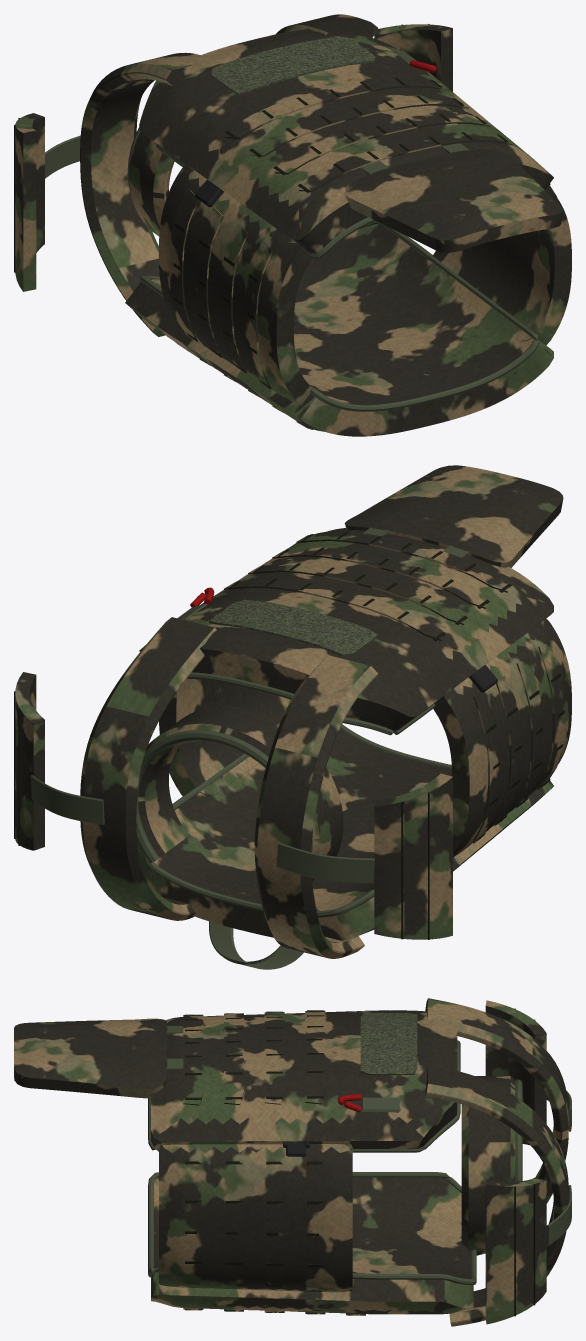
The model's file is colete_militar.glb.
3 renders of one model, top to bottom at view 1: azimuth 30°, elevation 25°; view 2: azimuth 150°, elevation 25°; view 3: azimuth 270°, elevation 25°, orthographic. The views are drawn at different scales.
Visible parts, largest first — view 1: colete_militar_camo_mata, colete_militar_nylon_verde, colete_militar_velcro_verde, colete_militar_costura_escura; view 2: colete_militar_camo_mata, colete_militar_nylon_verde, colete_militar_velcro_verde, colete_militar_costura_escura; view 3: colete_militar_camo_mata, colete_militar_nylon_verde, colete_militar_velcro_verde, colete_militar_costura_escura.
Boxes of the visible parts, x1,y1,x2,y2 form: colete_militar_camo_mata: (15, 14, 571, 436); colete_militar_nylon_verde: (45, 48, 539, 411); colete_militar_velcro_verde: (211, 37, 375, 94); colete_militar_costura_escura: (14, 24, 550, 429); colete_militar_camo_mata: (15, 465, 571, 958); colete_militar_nylon_verde: (30, 527, 469, 969); colete_militar_velcro_verde: (209, 599, 377, 656); colete_militar_costura_escura: (14, 532, 564, 939); colete_militar_camo_mata: (14, 998, 568, 1326); colete_militar_nylon_verde: (148, 1026, 571, 1285); colete_militar_velcro_verde: (360, 1013, 417, 1075); colete_militar_costura_escura: (185, 1008, 535, 1316).
Bounding box in the file's own units: 0.5416 × 0.3722 × 0.692.
6 materials, 2 textured.
